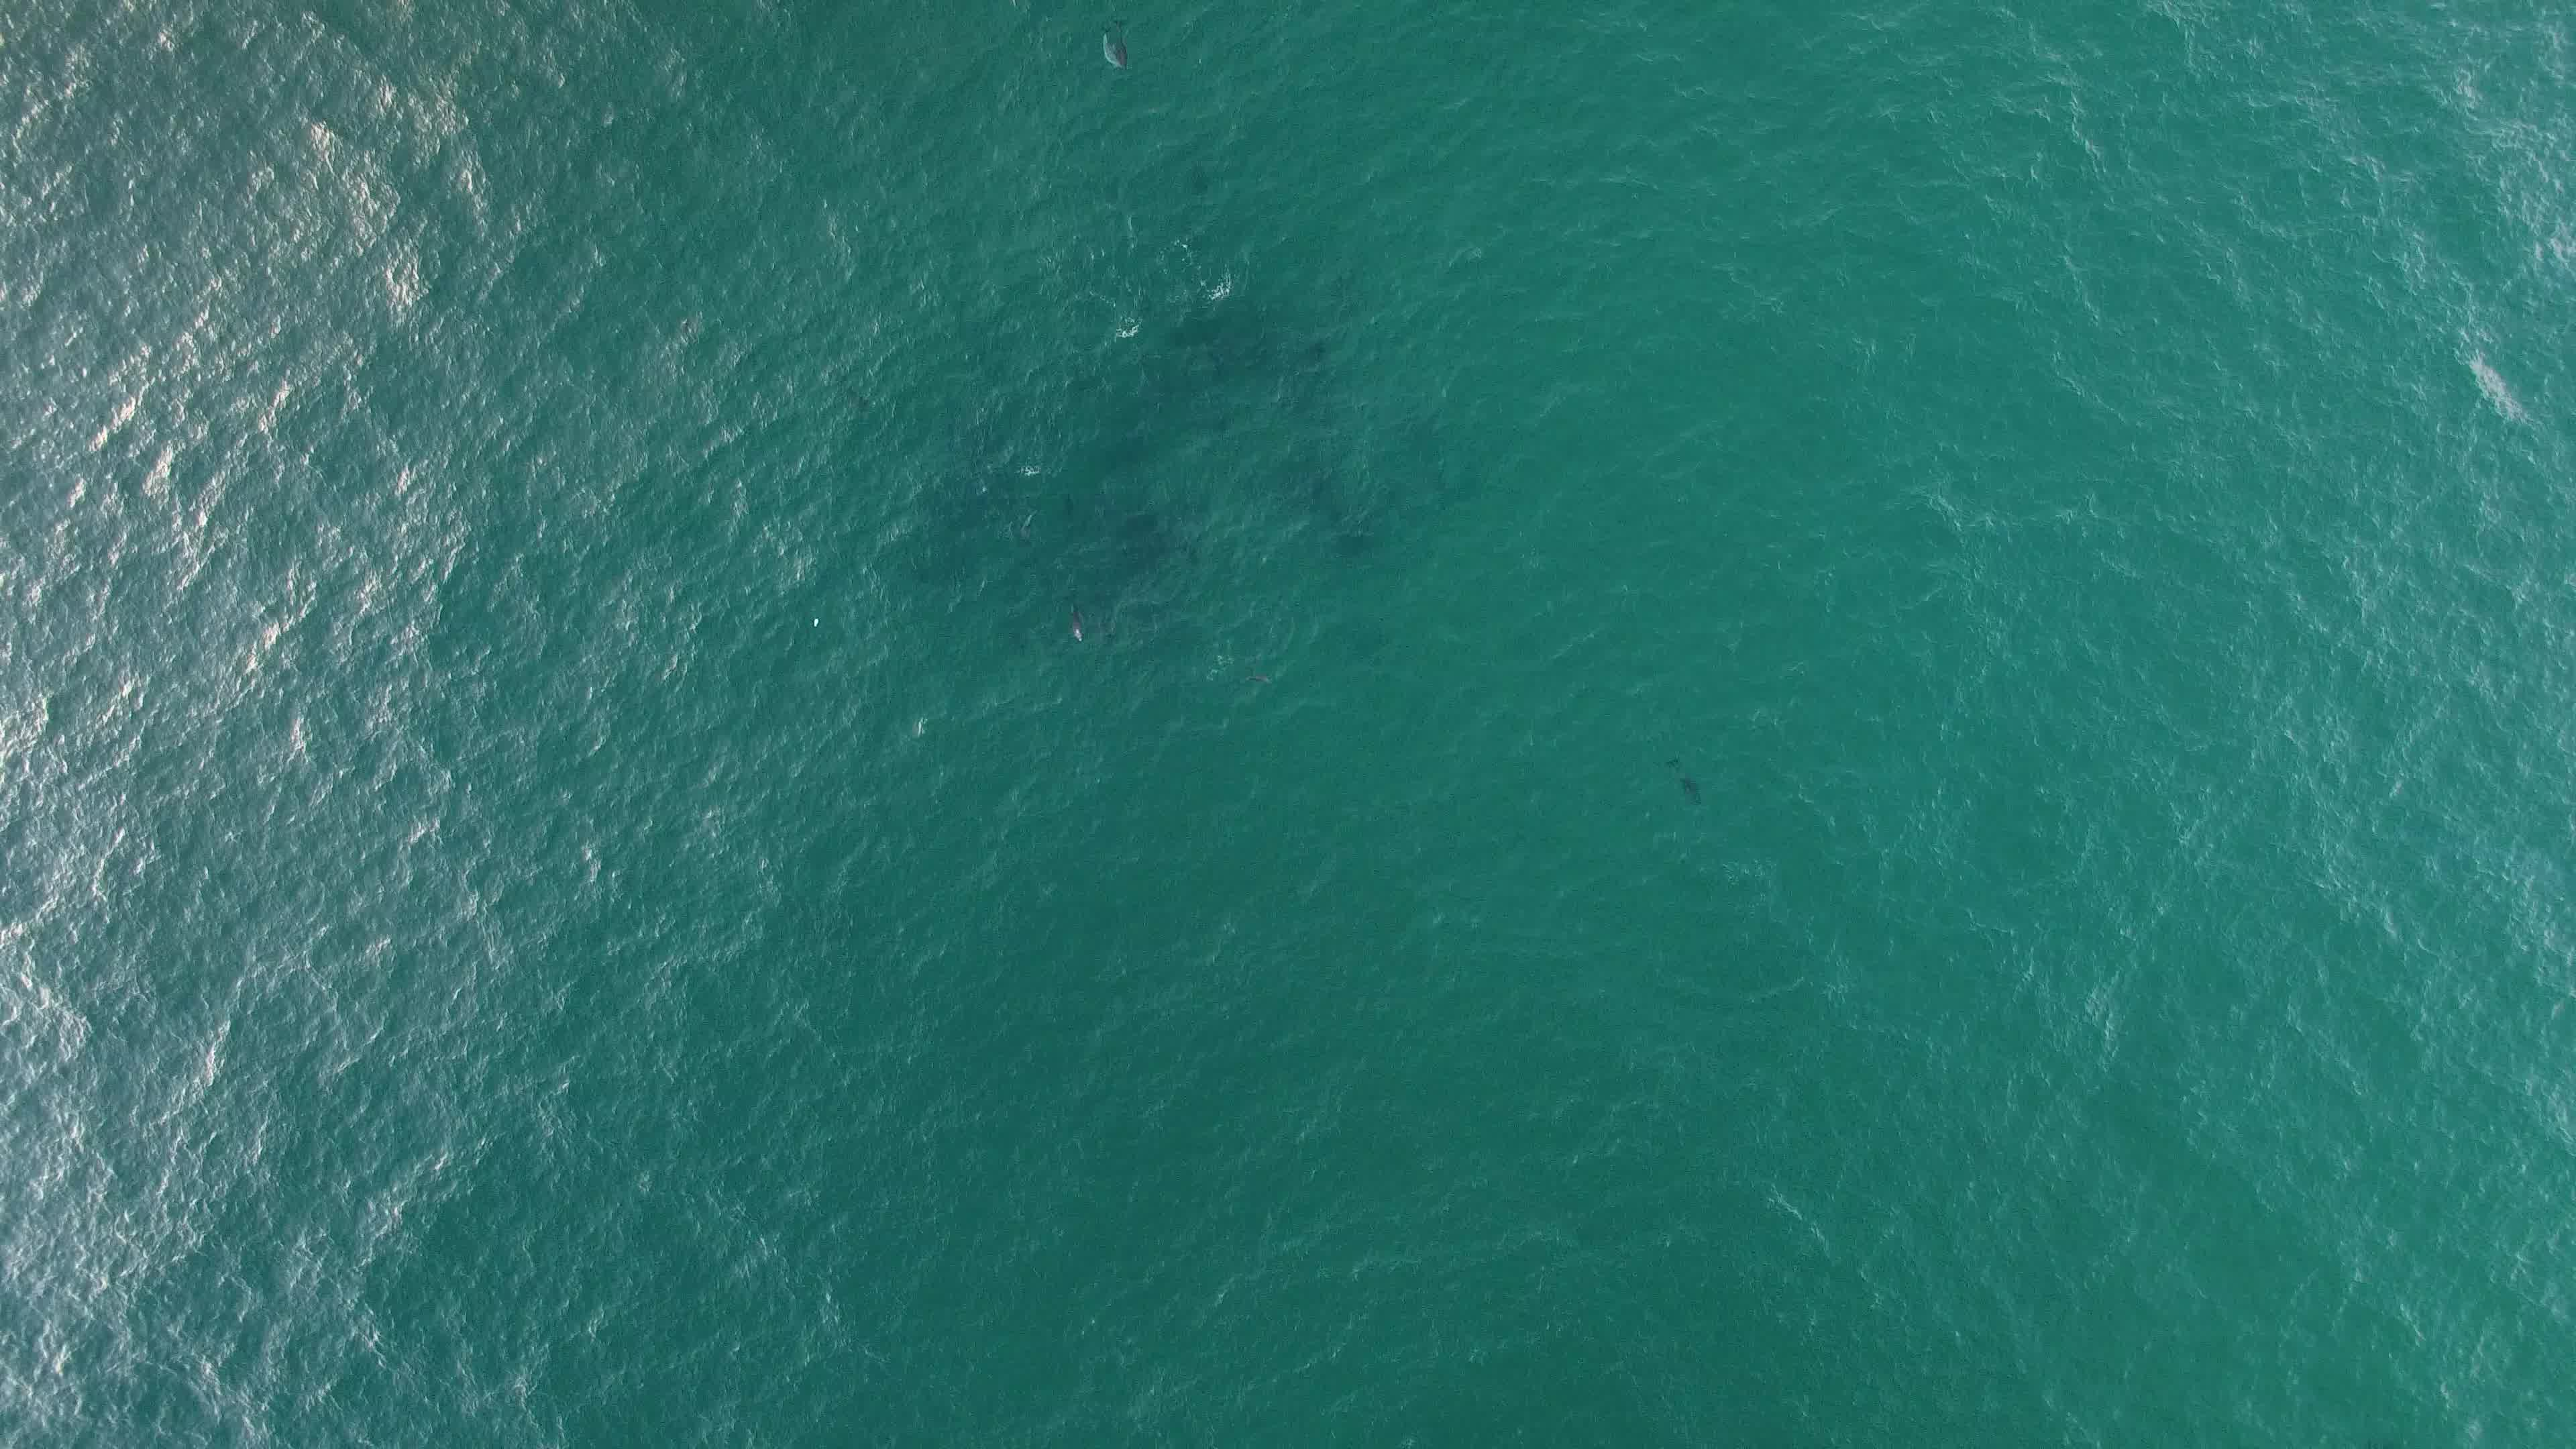dolphin: (1649, 741, 1718, 812), (1081, 12, 1143, 83), (1054, 582, 1097, 658)
